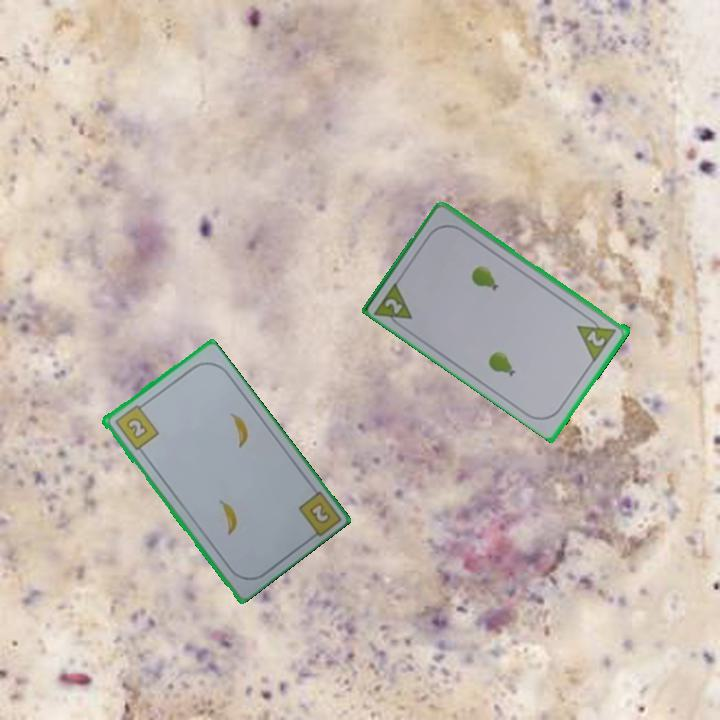2b: (111, 399, 161, 453), (305, 498, 331, 525)
2p: (372, 277, 416, 332), (574, 311, 620, 363)
